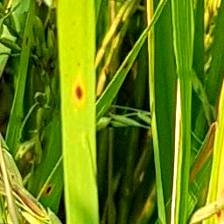Bacterial_Leaf_Blight: (70, 74, 89, 107)
